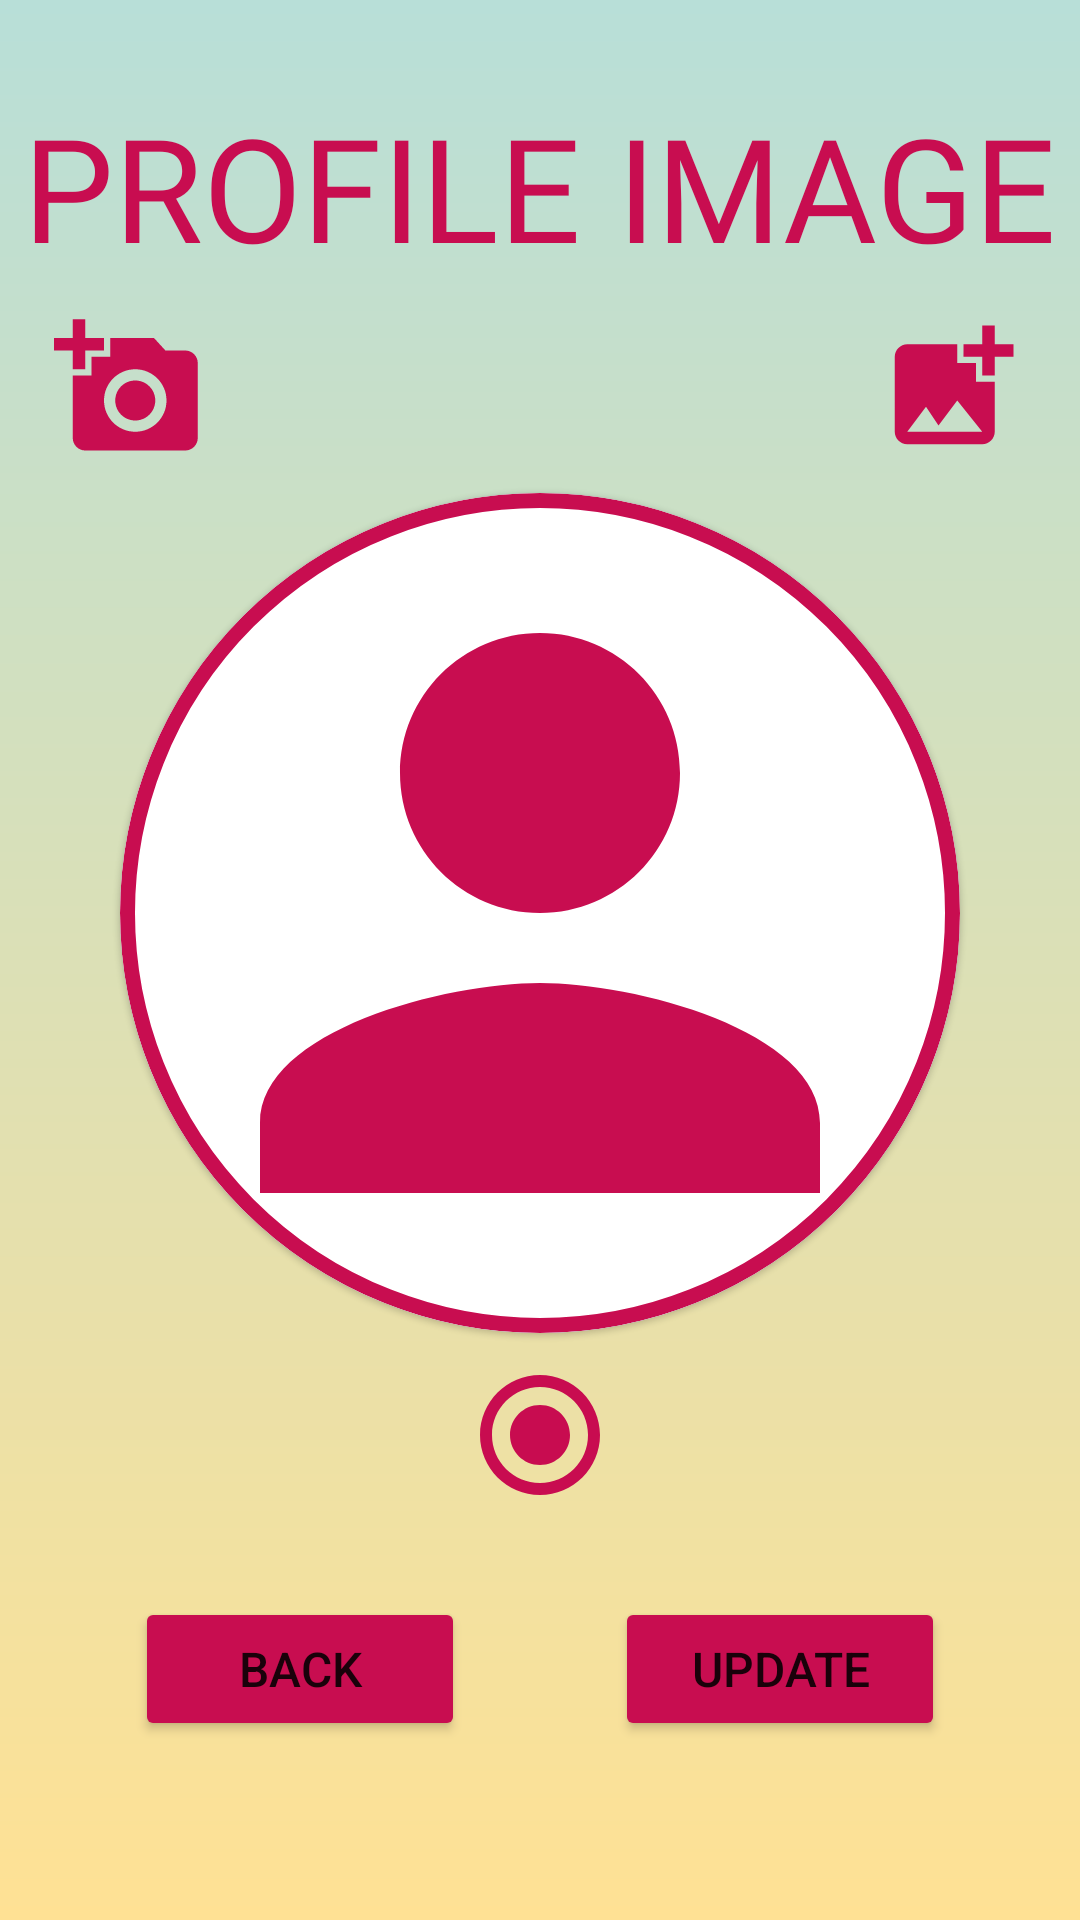

Where icons sit on this 1080px x 1920px app screen, as {"left": x1, "top": y1, "right": x2, "bottom": y2}:
capture: {"left": 480, "top": 1375, "right": 600, "bottom": 1495}
gallery: {"left": 894, "top": 325, "right": 1014, "bottom": 445}
